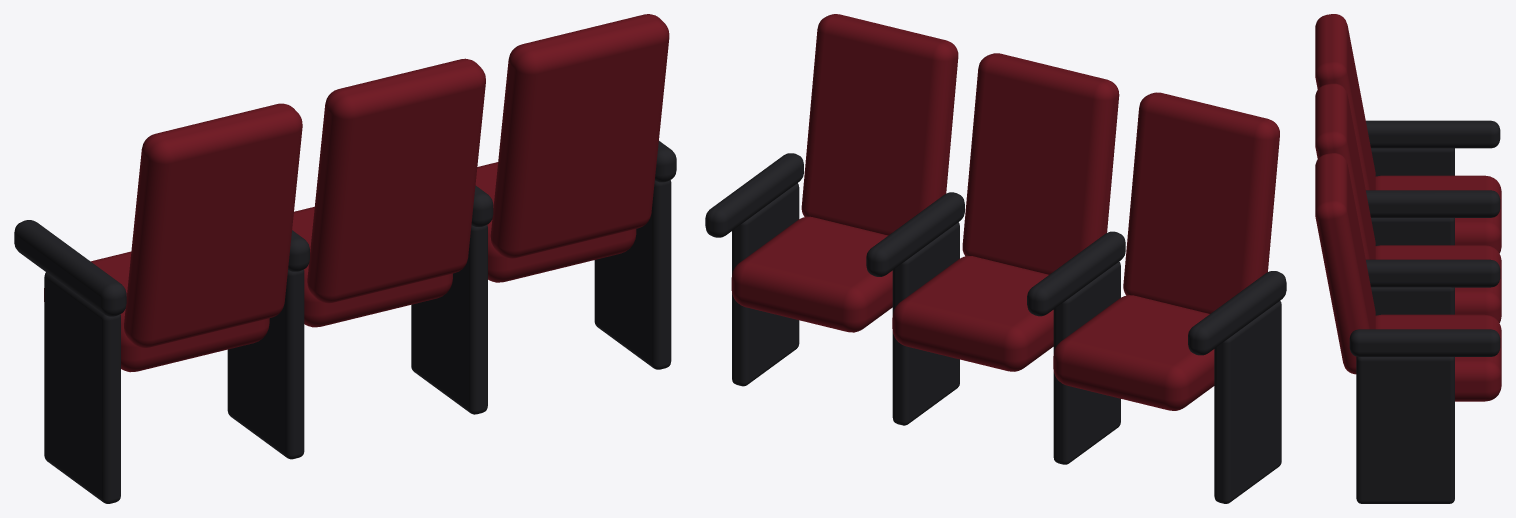
File: row_reference.glb
The picture shows the model from 3 angles, left to right: view 1: azimuth 30°, elevation 25°; view 2: azimuth 150°, elevation 25°; view 3: azimuth 270°, elevation 25°; orthographic projection. The views are drawn at different scales.
Visible parts, largest first — view 1: Seat_Back (×3), Arm_Leg (×4), Seat_Cushion (×3), Arm_Top; view 2: Seat_Back (×3), Seat_Cushion (×3), Arm_Leg (×4), Arm_Top (×4); view 3: Arm_Leg (×4), Seat_Back (×3), Arm_Top (×4), Seat_Cushion (×3).
Part boxes in pixels (x1,y1,x2,y2): Seat_Back (×3): (124, 14, 669, 348); Arm_Leg (×4): (44, 180, 671, 503); Seat_Cushion (×3): (44, 162, 636, 372); Arm_Top: (14, 220, 126, 316); Seat_Back (×3): (801, 14, 1279, 313); Seat_Cushion (×3): (731, 216, 1214, 410); Arm_Leg (×4): (732, 183, 1281, 503); Arm_Top (×4): (705, 153, 1286, 355); Arm_Leg (×4): (1356, 148, 1454, 503); Seat_Back (×3): (1315, 14, 1375, 374); Arm_Top (×4): (1349, 120, 1500, 356); Seat_Cushion (×3): (1375, 175, 1501, 401).
Bounding box in the file's own units: 1.88 × 1.17 × 0.68.
